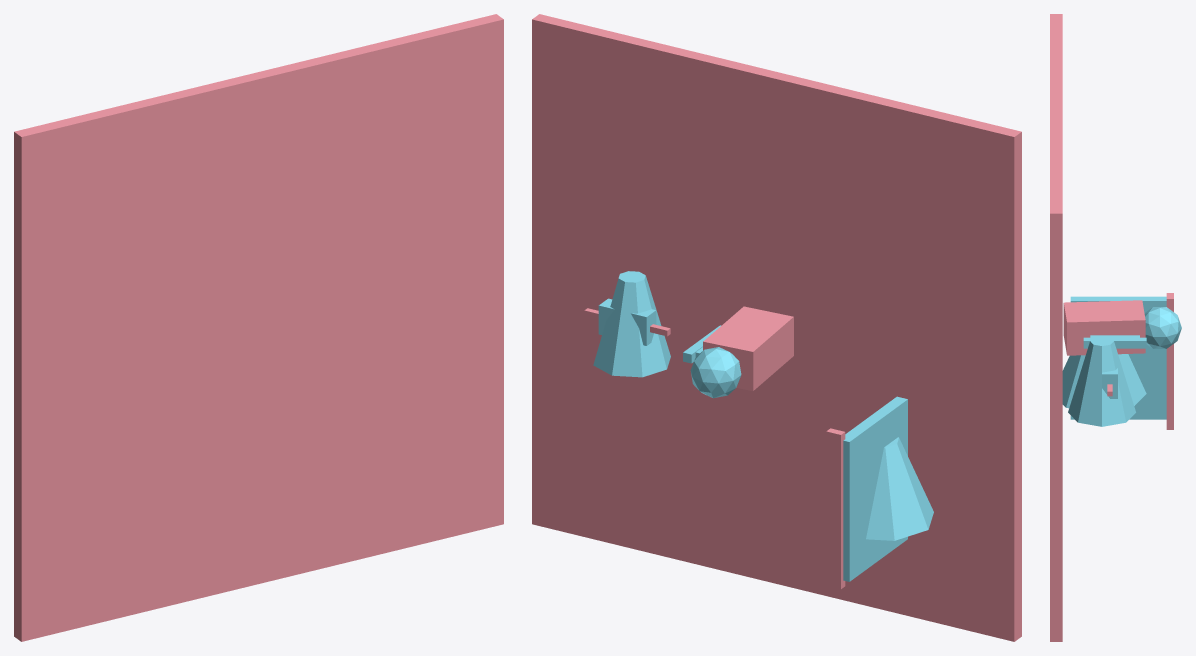
File: twin-stick-onslaught-kit.glb
The picture shows the model from 3 angles, left to right: view 1: azimuth 30°, elevation 25°; view 2: azimuth 150°, elevation 25°; view 3: azimuth 270°, elevation 25°; orthographic projection. The views are drawn at different scales.
Visible parts, largest first — view 1: ENVIRONMENT_GROUND; view 2: ENVIRONMENT_GROUND, PROFILE_ENVIRONMENT_DETAIL, OBSTACLE, PLAYER_BODY, ENVIRONMENT_LANDMARK, PROFILE_ENVIRONMENT_TRIM, PLAYER_HEAD, PROFILE_OBSTACLE_DETAIL; view 3: ENVIRONMENT_GROUND, OBSTACLE, PLAYER_BODY, PROFILE_ENVIRONMENT_DETAIL, ENVIRONMENT_LANDMARK, PLAYER_HEAD, PROFILE_ENVIRONMENT_TRIM, PLAYER_TOOL, PROFILE_OBSTACLE_DETAIL.
Part boxes in pixels (<box>): ENVIRONMENT_GROUND: <box>14,14,503,641</box>; ENVIRONMENT_GROUND: <box>532,14,1021,641</box>; PROFILE_ENVIRONMENT_DETAIL: <box>843,396,907,581</box>; OBSTACLE: <box>593,271,670,377</box>; PLAYER_BODY: <box>703,306,793,390</box>; ENVIRONMENT_LANDMARK: <box>866,437,933,540</box>; PROFILE_ENVIRONMENT_TRIM: <box>826,428,845,589</box>; PLAYER_HEAD: <box>690,347,741,398</box>; PROFILE_OBSTACLE_DETAIL: <box>598,298,656,345</box>; ENVIRONMENT_GROUND: <box>1050,14,1062,641</box>; OBSTACLE: <box>1068,336,1135,426</box>; PLAYER_BODY: <box>1063,300,1145,355</box>; PROFILE_ENVIRONMENT_DETAIL: <box>1070,296,1166,419</box>; ENVIRONMENT_LANDMARK: <box>1062,354,1146,408</box>; PLAYER_HEAD: <box>1144,307,1181,348</box>; PROFILE_ENVIRONMENT_TRIM: <box>1166,293,1173,429</box>; PLAYER_TOOL: <box>1083,337,1146,348</box>; PROFILE_OBSTACLE_DETAIL: <box>1102,368,1117,398</box>.
Size of what is drawn, in the model's own units: 9 by 9 by 2.51.
